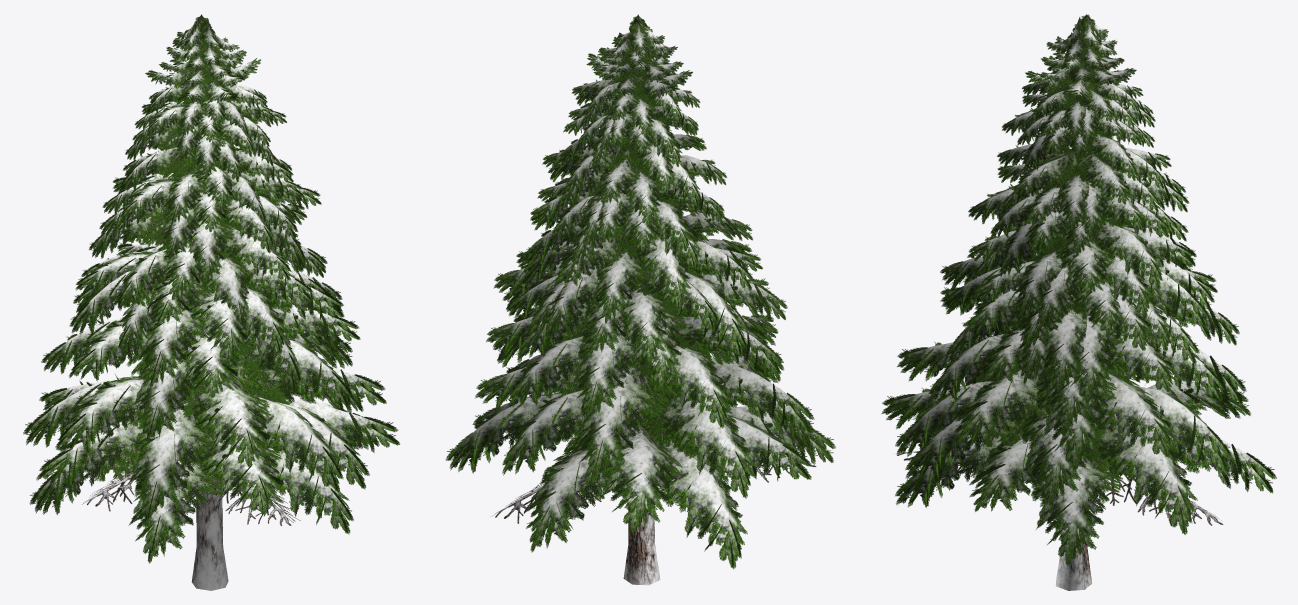
The model's file is snow-pine.glb.
The picture shows the model from 3 angles, left to right: view 1: azimuth 30°, elevation 25°; view 2: azimuth 150°, elevation 25°; view 3: azimuth 270°, elevation 25°; orthographic projection.
Visible parts, largest first — view 1: Object_3; view 2: Object_3; view 3: Object_3.
Part boxes in pixels (<box>): Object_3: <box>23,14,399,590</box>; Object_3: <box>445,14,835,585</box>; Object_3: <box>881,14,1276,590</box>.
Size of the model in its own units: 194 by 295 by 194.
Materials: 1 (1 with a texture image).
